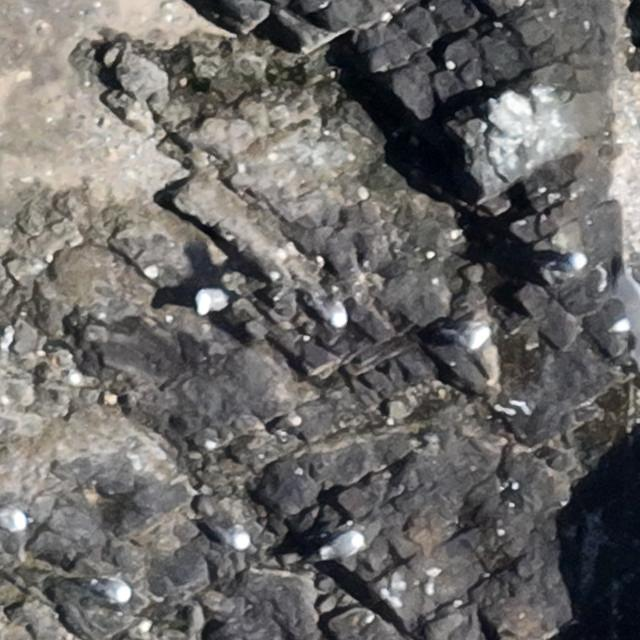umineko: (304, 284, 350, 328), (319, 530, 364, 562), (447, 322, 491, 352), (212, 517, 250, 549), (194, 284, 232, 316), (97, 580, 132, 602), (1, 508, 26, 532), (558, 254, 588, 272)
